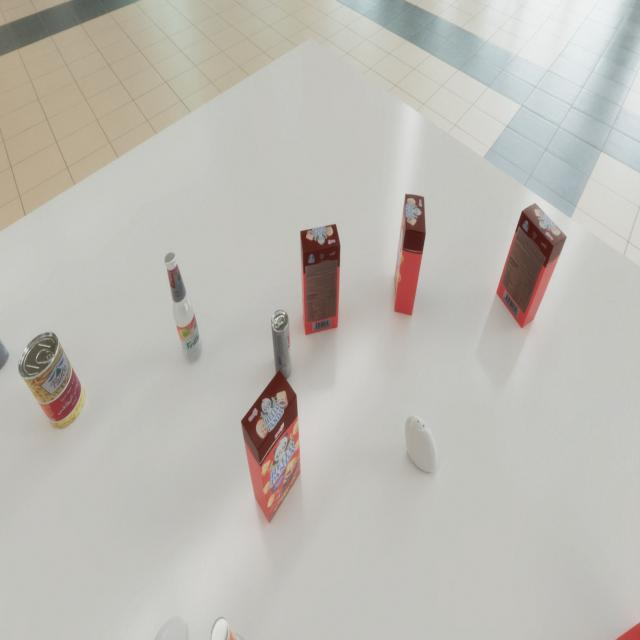Bottle: (165, 252, 202, 363)
HelloPanda: (241, 370, 300, 523), (496, 203, 567, 328), (300, 224, 340, 335), (394, 194, 426, 315)
Potato_sticks: (18, 332, 85, 429)
Rita_zero_sugar: (271, 309, 292, 381)
Salt: (404, 415, 438, 473)
